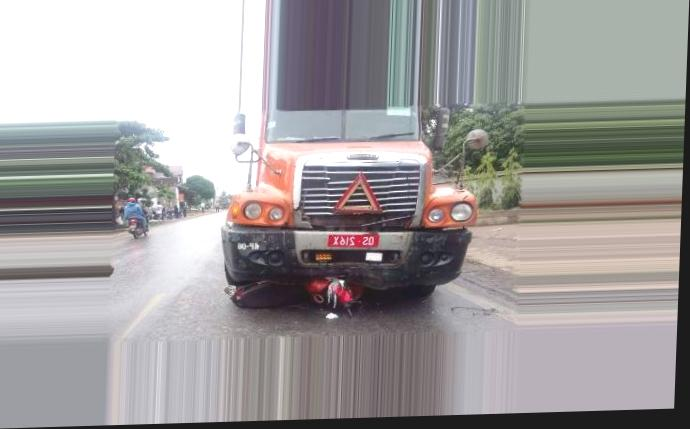License_Plate: (324, 229, 381, 251)
